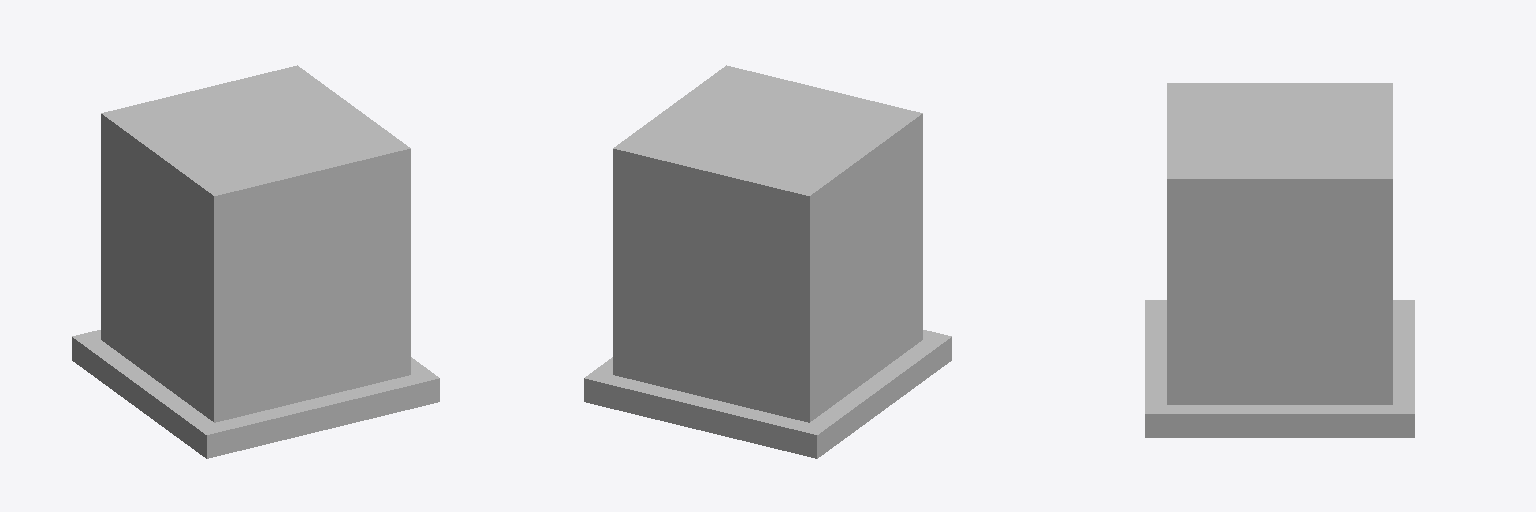
The model's file is Pedestal03.obj.
3 views of the same model, side by side, from view 1: azimuth 30°, elevation 25°; view 2: azimuth 150°, elevation 25°; view 3: azimuth 270°, elevation 25° (orthographic).
Visible parts, largest first — view 1: pCube5; view 2: pCube5; view 3: pCube5.
Boxes of the visible parts, x1=… form: pCube5: x1=72, y1=65, x2=439, y2=458; pCube5: x1=584, y1=65, x2=951, y2=458; pCube5: x1=1145, y1=83, x2=1414, y2=437.
Bounding box in the file's own units: 3.4 × 3.48 × 3.4.